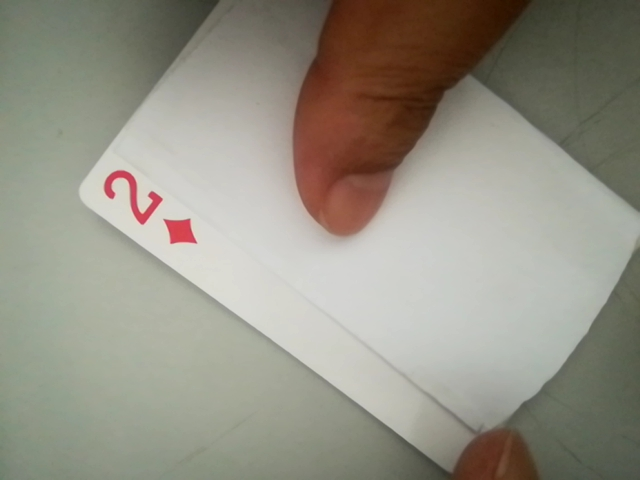fk 2: (88, 160, 213, 256)
